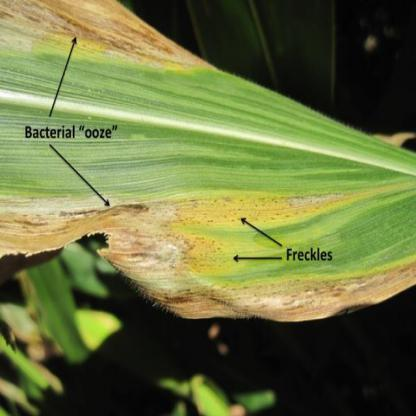Corn leaf blight: (2, 3, 416, 312)
